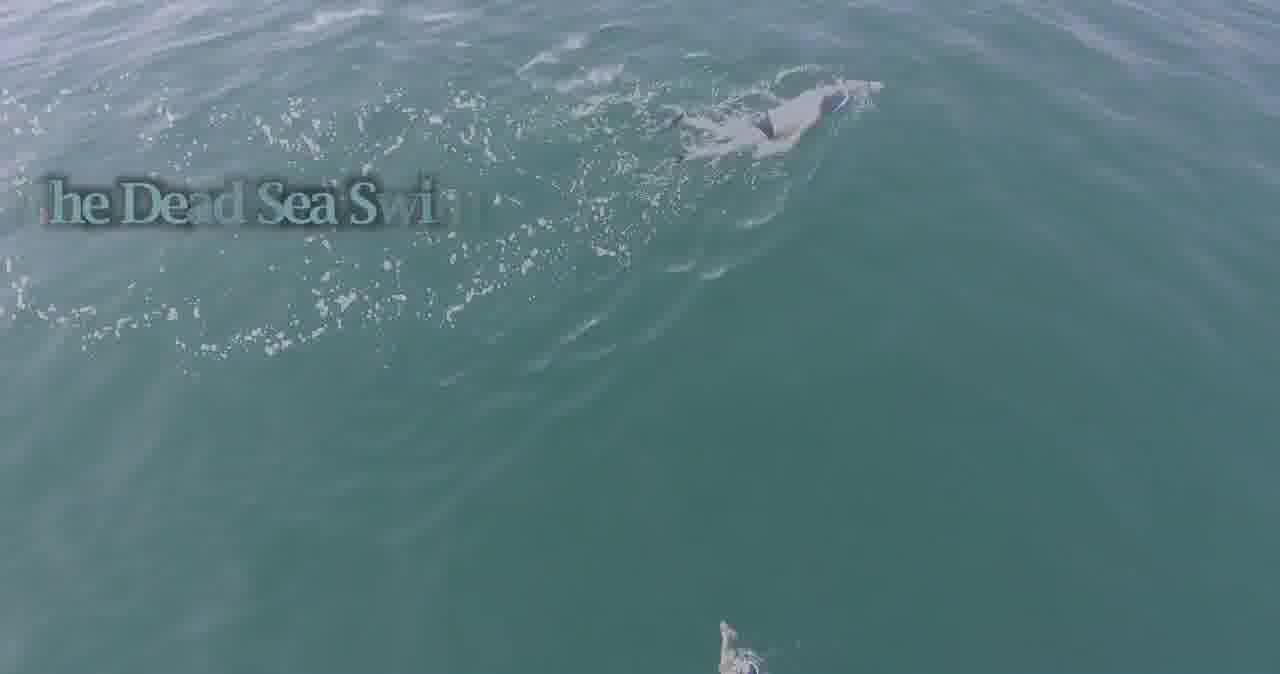human: (672, 79, 892, 163)
